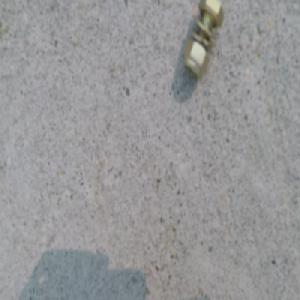BoltNutSet: (183, 0, 223, 79)
